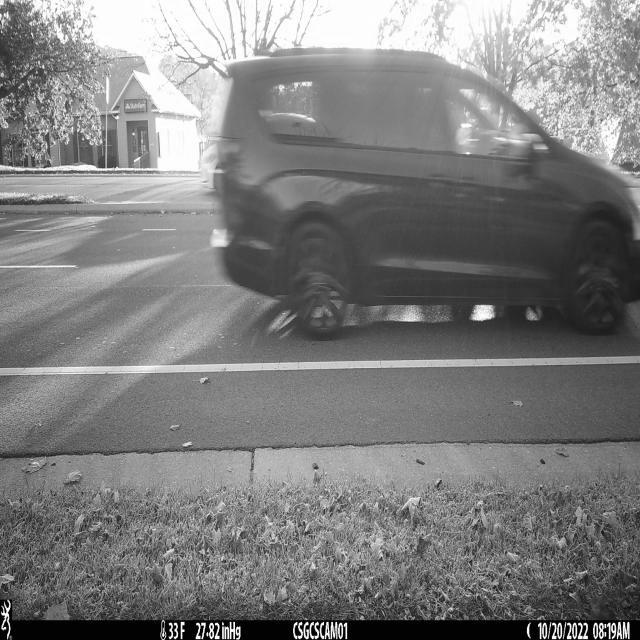Van: (212, 48, 640, 337)
